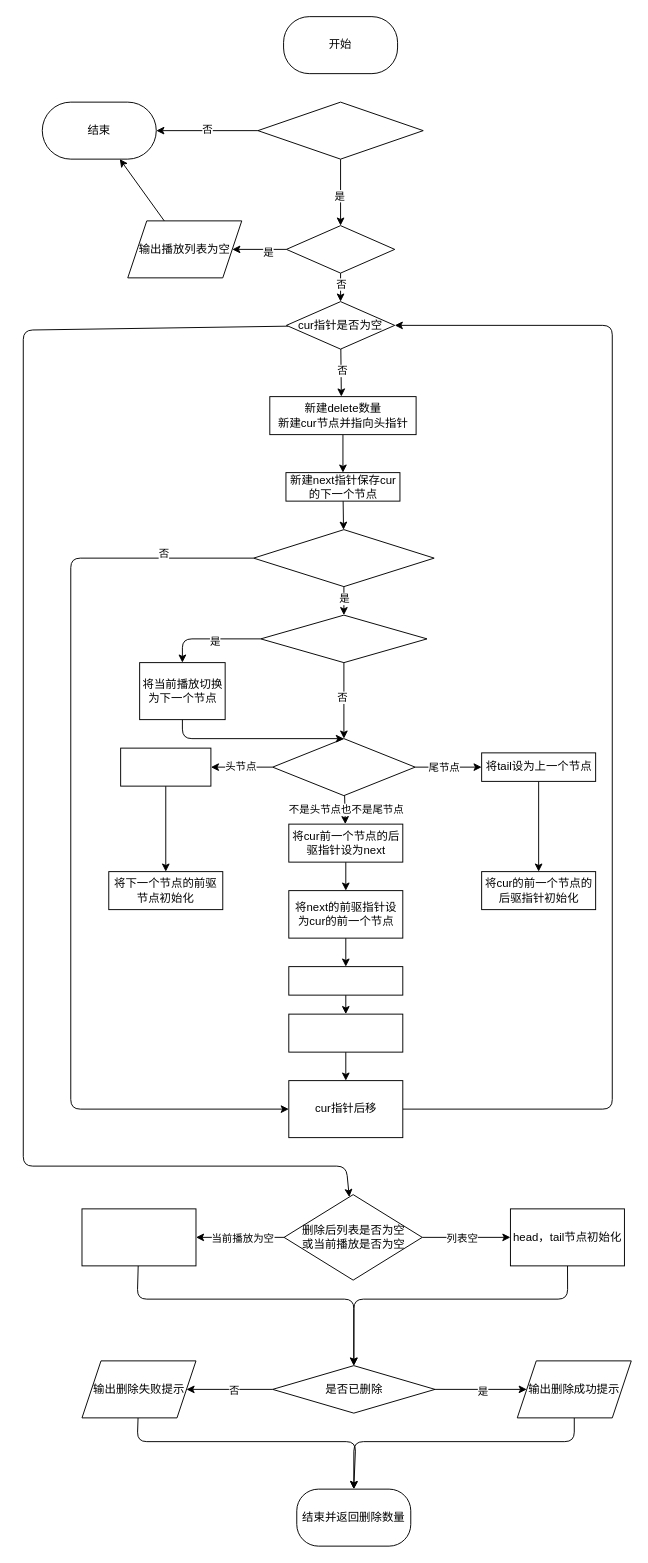
This 648x1563 diagram has some shape labels left out. The centre of each missing label's shape, as x and y in pixels:
"参数是否正确" belongs at pixel 340 130.
"将head设为下一个节点" belongs at pixel 165 766.
"当前播放是否为此节点" belongs at pixel 343 638.
"当前播放设为头节点" belongs at pixel 138 1237.
"当前节点是否与目标节点一样" belongs at pixel 343 558.
"是否为空列表" belongs at pixel 340 249.
"歌曲数量-1，delete数量+1" belongs at pixel 345 1032.
"此节点是否为头、尾节点" belongs at pixel 343 767.
"释放cur节点内存" belongs at pixel 345 980.
